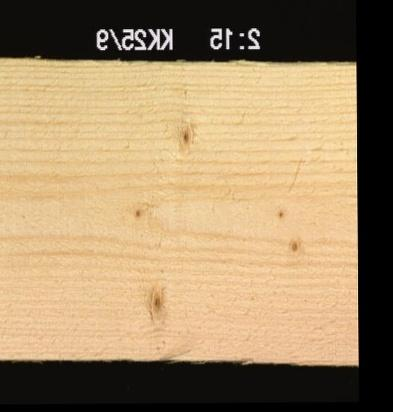small_knot: (174, 118, 197, 151), (282, 234, 302, 255), (272, 203, 289, 224), (129, 201, 146, 221)
sound_knot: (142, 283, 171, 323)
